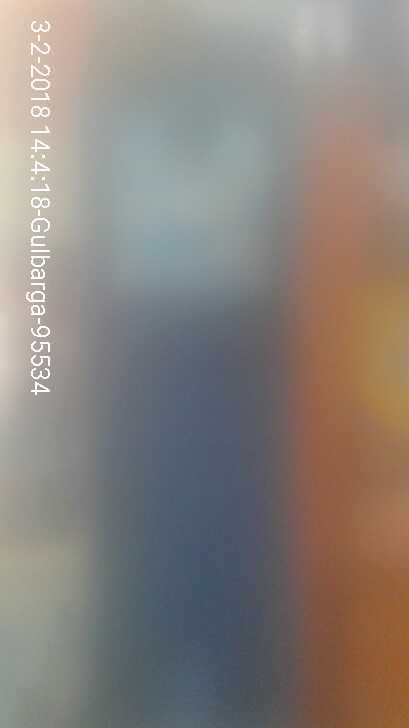reject: (144, 218, 232, 332)
